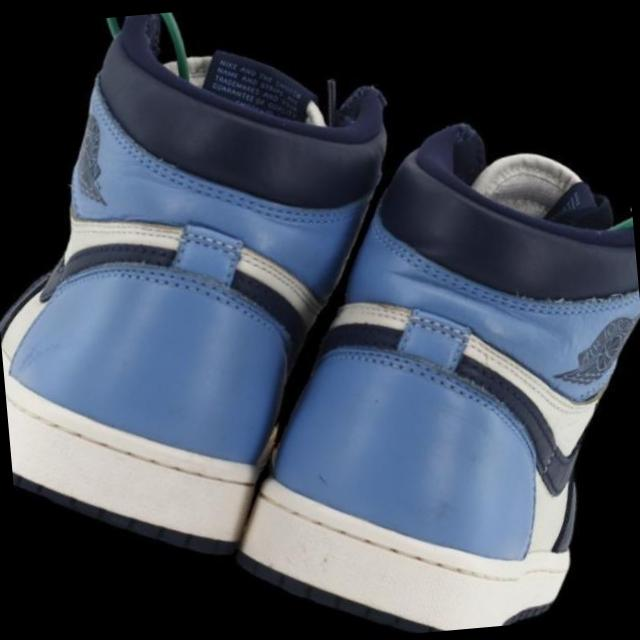nike_original_jordan: (0, 0, 449, 595), (183, 70, 640, 640)
